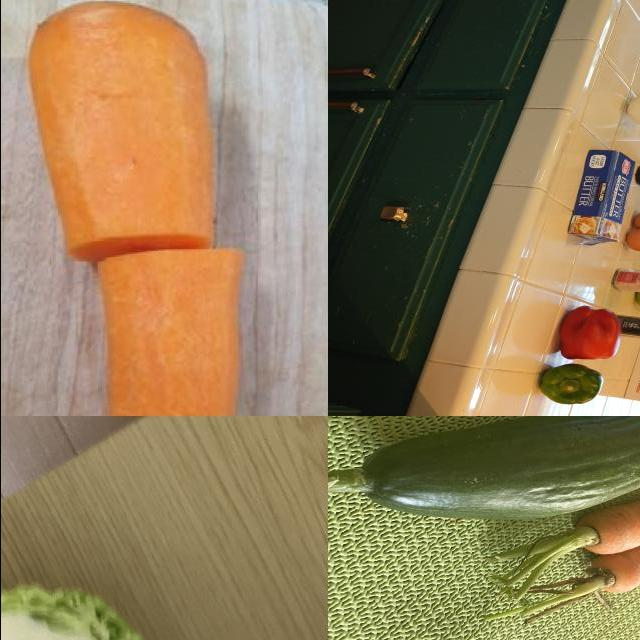bell_pepper: (557, 303, 627, 361), (539, 366, 605, 410), (599, 319, 640, 341)
carrot: (20, 1, 219, 264), (89, 247, 252, 417), (468, 498, 640, 587), (509, 537, 640, 622)
cucumber: (328, 417, 640, 556)
egg: (624, 228, 640, 256), (634, 208, 640, 229)
onion: (626, 92, 640, 131)
